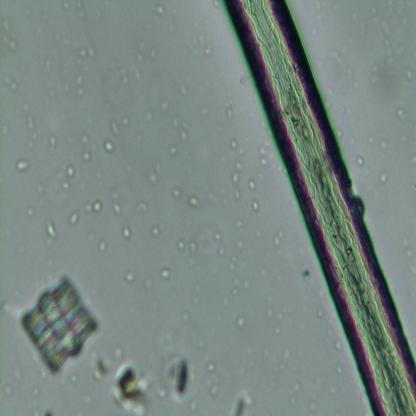Background material: (109, 359, 153, 416), (160, 354, 192, 398), (228, 391, 254, 416), (24, 114, 38, 147), (87, 360, 110, 380), (42, 216, 60, 240), (55, 168, 72, 192), (277, 344, 292, 371), (205, 374, 220, 398), (77, 44, 93, 66), (3, 74, 20, 94), (257, 142, 268, 171), (116, 66, 130, 87), (83, 198, 101, 214), (272, 229, 288, 247), (48, 130, 61, 152), (402, 231, 412, 259), (14, 156, 31, 172), (380, 19, 390, 46), (186, 190, 201, 208), (131, 198, 148, 213), (231, 137, 243, 158), (76, 75, 87, 97), (64, 208, 79, 224), (370, 62, 380, 86), (156, 98, 171, 113), (4, 36, 18, 52), (146, 167, 159, 184), (112, 344, 124, 362), (203, 359, 217, 374), (328, 50, 343, 64), (233, 172, 240, 202), (150, 222, 163, 238), (2, 380, 14, 397), (160, 263, 170, 283), (102, 140, 116, 154), (232, 277, 242, 296), (75, 3, 86, 20), (81, 150, 94, 164), (396, 106, 408, 121), (108, 120, 120, 134), (383, 54, 395, 68), (368, 4, 379, 19), (236, 313, 247, 328), (154, 2, 165, 17), (29, 381, 40, 396), (315, 0, 322, 23), (42, 54, 52, 70), (168, 143, 180, 156), (123, 270, 135, 283), (2, 20, 13, 34), (355, 152, 365, 167), (250, 199, 260, 214), (199, 104, 209, 119), (298, 267, 310, 279), (379, 170, 388, 186), (230, 253, 238, 271), (181, 310, 193, 322), (24, 207, 35, 220), (248, 177, 258, 191), (122, 224, 132, 238), (405, 65, 414, 80), (379, 140, 390, 152), (333, 126, 344, 138), (196, 336, 207, 348), (68, 371, 78, 384), (180, 128, 190, 140), (236, 160, 246, 172), (204, 45, 212, 60), (176, 238, 186, 250), (67, 164, 76, 177), (190, 239, 198, 253), (266, 306, 274, 320), (171, 187, 181, 198), (276, 311, 286, 322), (172, 116, 181, 128), (99, 240, 108, 252), (334, 338, 342, 351), (368, 134, 378, 144), (134, 51, 144, 61), (61, 0, 70, 11), (216, 245, 225, 256), (214, 231, 223, 242), (114, 202, 121, 216), (36, 184, 44, 196), (274, 324, 282, 336), (145, 112, 154, 122), (82, 136, 90, 147), (409, 153, 416, 165), (292, 382, 300, 392), (236, 240, 244, 250), (45, 406, 53, 416), (227, 108, 233, 121), (288, 396, 296, 404), (213, 0, 220, 9), (240, 75, 246, 85), (121, 118, 128, 126), (244, 280, 250, 288)
Diatom: (19, 273, 103, 374)
Hair: (222, 0, 416, 416)
